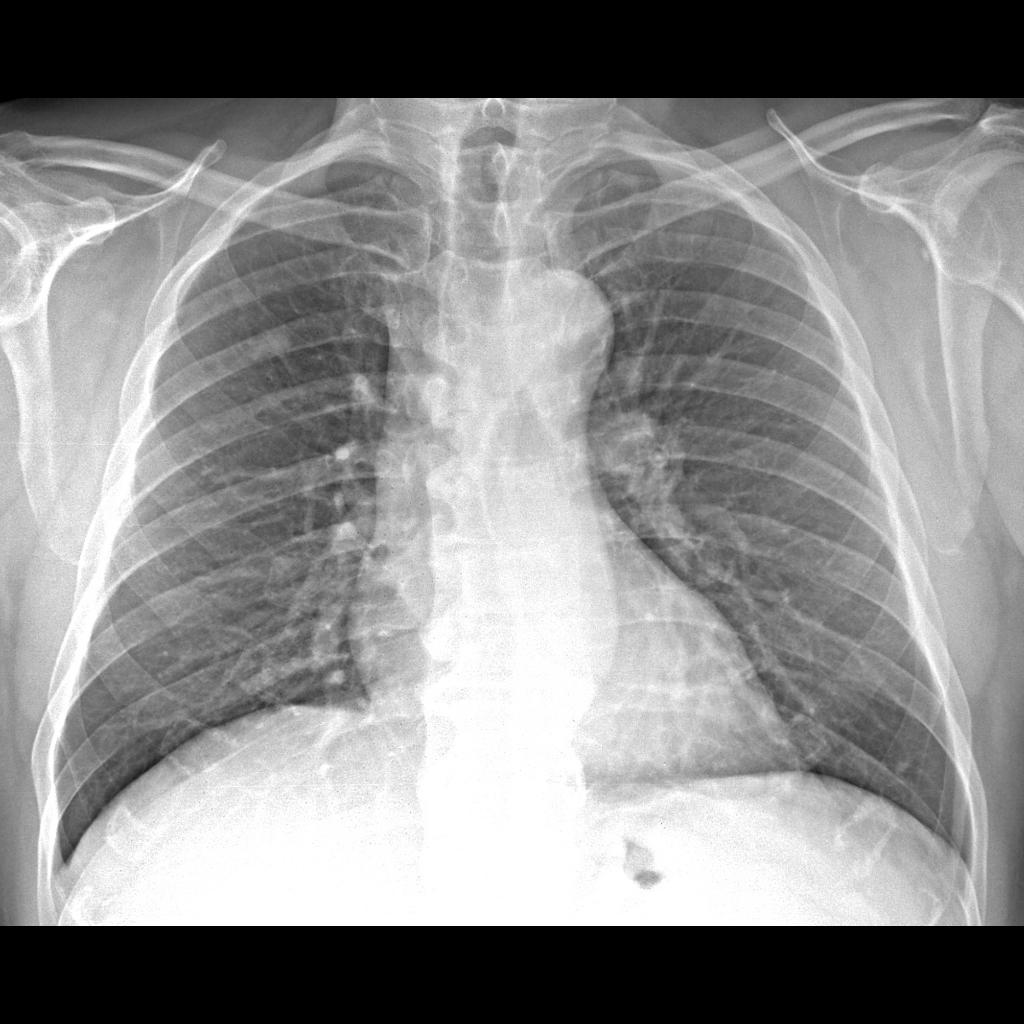Nodule: (252, 321, 300, 371)
